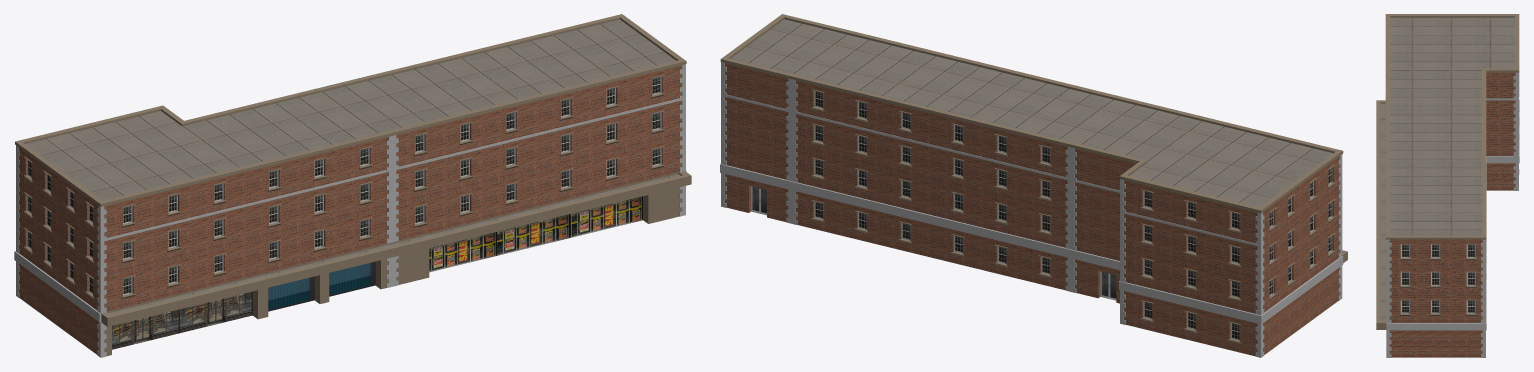
Rendered from SM_DemoBuilding_2_A.fbx.
The picture shows the model from 3 angles, left to right: view 1: azimuth 30°, elevation 25°; view 2: azimuth 150°, elevation 25°; view 3: azimuth 270°, elevation 25°; orthographic projection. The views are drawn at different scales.
Visible parts, largest first — view 1: SM_DemoBuilding_2_A_LOD0; view 2: SM_DemoBuilding_2_A_LOD0; view 3: SM_DemoBuilding_2_A_LOD0.
Boxes of the visible parts, x1,y1,x2,y2 form: SM_DemoBuilding_2_A_LOD0: [14, 14, 691, 357]; SM_DemoBuilding_2_A_LOD0: [720, 14, 1347, 357]; SM_DemoBuilding_2_A_LOD0: [1376, 14, 1519, 357].
Size of what is drawn, in the model's own units: 60.72 by 15.26 by 16.44.
